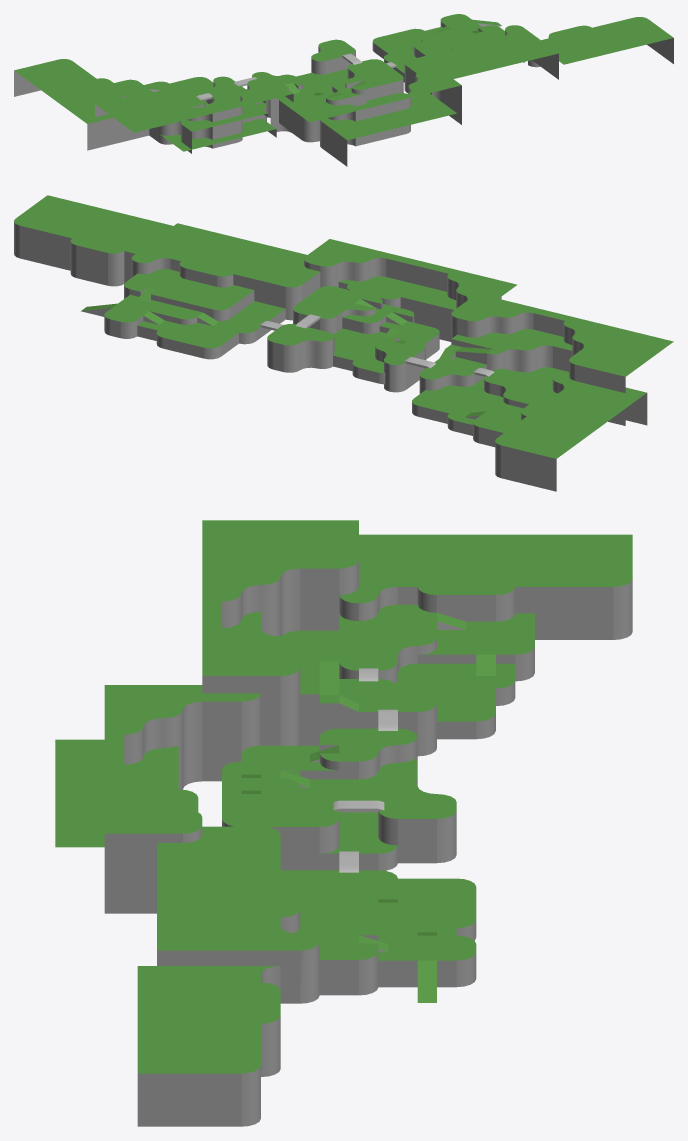
The model's file is map_01.fbx.
3 views of the same model, one above another, from view 1: azimuth 30°, elevation 25°; view 2: azimuth 150°, elevation 25°; view 3: azimuth 270°, elevation 25° (orthographic). The views are drawn at different scales.
Parts seen in each view (by area): view 1: polySurface4, Cube__32_62, polySurface5, Cube__32_24, Cube__32_26, Cube__32_25, Cube__32_61, polySurface1, Cube__32_7, polySurface3, Cube__32_16, Cube__32_33 (+8 smaller); view 2: Cube__32_24, Cube__32_26, Cube__32_62, polySurface4, polySurface5, Cube__32_7, polySurface3, Cube__32_16, Cube__32_25, Cube__32_61, Cube__32_33, polySurface1 (+8 smaller); view 3: Cube__32_62, polySurface4, Cube__32_26, polySurface5, Cube__32_24, Cube__32_25, Cube__32_16, Cube__32_61, polySurface1, Cube__32_64, Cube__32_39, Cube__32_58 (+8 smaller).
Part boxes in pixels (left/top/right/bottom): polySurface4: left=95, top=77, right=293, bottom=148; Cube__32_62: left=14, top=59, right=149, bottom=150; polySurface5: left=270, top=69, right=461, bottom=146; Cube__32_24: left=404, top=25, right=558, bottom=94; Cube__32_26: left=528, top=17, right=673, bottom=67; Cube__32_25: left=320, top=93, right=456, bottom=166; Cube__32_61: left=144, top=77, right=276, bottom=151; polySurface1: left=345, top=59, right=403, bottom=96; Cube__32_7: left=372, top=26, right=442, bottom=82; polySurface3: left=181, top=89, right=268, bottom=153; Cube__32_16: left=414, top=25, right=524, bottom=62; Cube__32_33: left=311, top=39, right=355, bottom=74; Cube__32_24: left=131, top=223, right=320, bottom=320; Cube__32_26: left=14, top=195, right=172, bottom=286; Cube__32_62: left=495, top=373, right=647, bottom=491; polySurface4: left=451, top=293, right=673, bottom=425; polySurface5: left=304, top=239, right=517, bottom=308; Cube__32_7: left=137, top=301, right=285, bottom=359; polySurface3: left=439, top=329, right=572, bottom=372; Cube__32_16: left=124, top=269, right=254, bottom=321; Cube__32_25: left=338, top=276, right=501, bottom=341; Cube__32_61: left=412, top=367, right=569, bottom=435; Cube__32_33: left=267, top=324, right=334, bottom=372; polySurface1: left=293, top=286, right=382, bottom=334; Cube__32_62: left=339, top=534, right=632, bottom=639; polySurface4: left=202, top=520, right=358, bottom=745; Cube__32_26: left=137, top=966, right=280, bottom=1126; polySurface5: left=104, top=685, right=260, bottom=913; Cube__32_24: left=157, top=826, right=319, bottom=1003; Cube__32_25: left=55, top=739, right=198, bottom=847; Cube__32_16: left=291, top=877, right=378, bottom=995; Cube__32_61: left=282, top=630, right=515, bottom=739; polySurface1: left=222, top=777, right=339, bottom=853; Cube__32_64: left=378, top=902, right=476, bottom=987; Cube__32_39: left=280, top=758, right=417, bottom=870; Cube__32_58: left=339, top=604, right=436, bottom=683.
Size of the model in its own units: 3165 by 284 by 1476.
